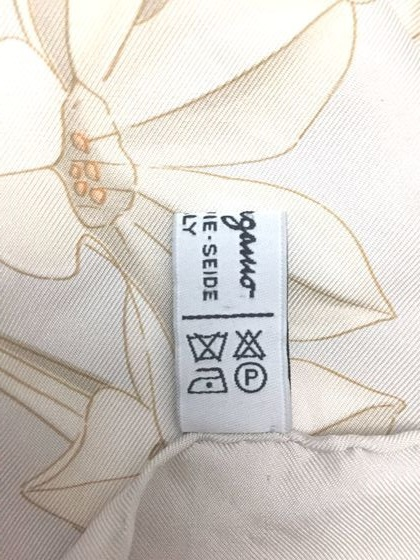do_not_bleach: (230, 328, 266, 361)
do_not_wash: (186, 331, 227, 364)
